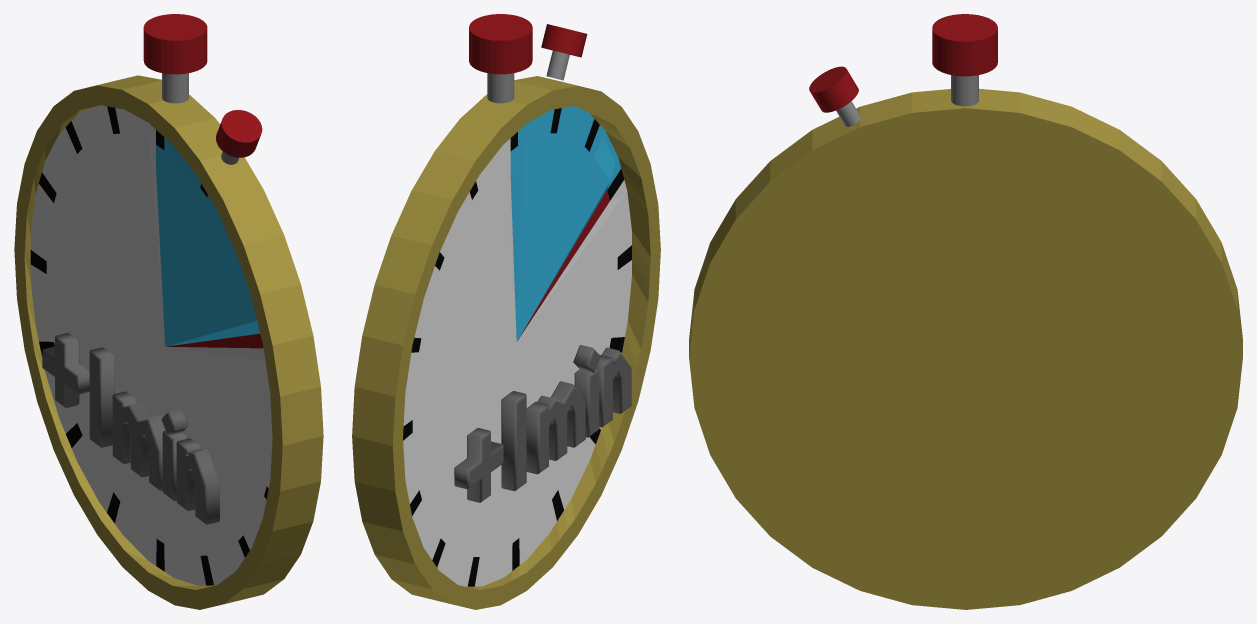
File: Timer.fbx
The picture shows the model from 3 angles, left to right: view 1: azimuth 30°, elevation 25°; view 2: azimuth 150°, elevation 25°; view 3: azimuth 270°, elevation 25°; orthographic projection. The views are drawn at different scales.
Visible parts, largest first — view 1: Cylinder; view 2: Cylinder; view 3: Cylinder.
Part boxes in pixels (x1=…): Cylinder: x1=14, y1=14, x2=323, y2=609; Cylinder: x1=352, y1=14, x2=660, y2=609; Cylinder: x1=689, y1=14, x2=1242, y2=609.
Size of the model in its own units: 0.117 by 0.7911 by 0.6905.
